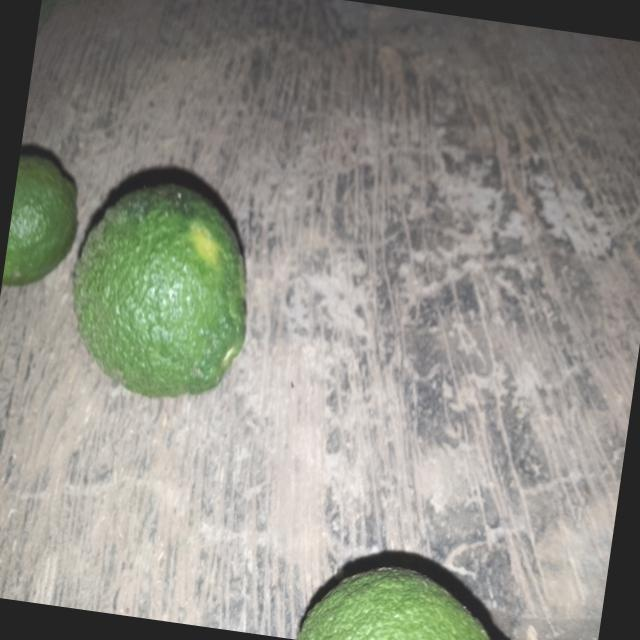agrume: (43, 139, 277, 425), (285, 532, 546, 640)
